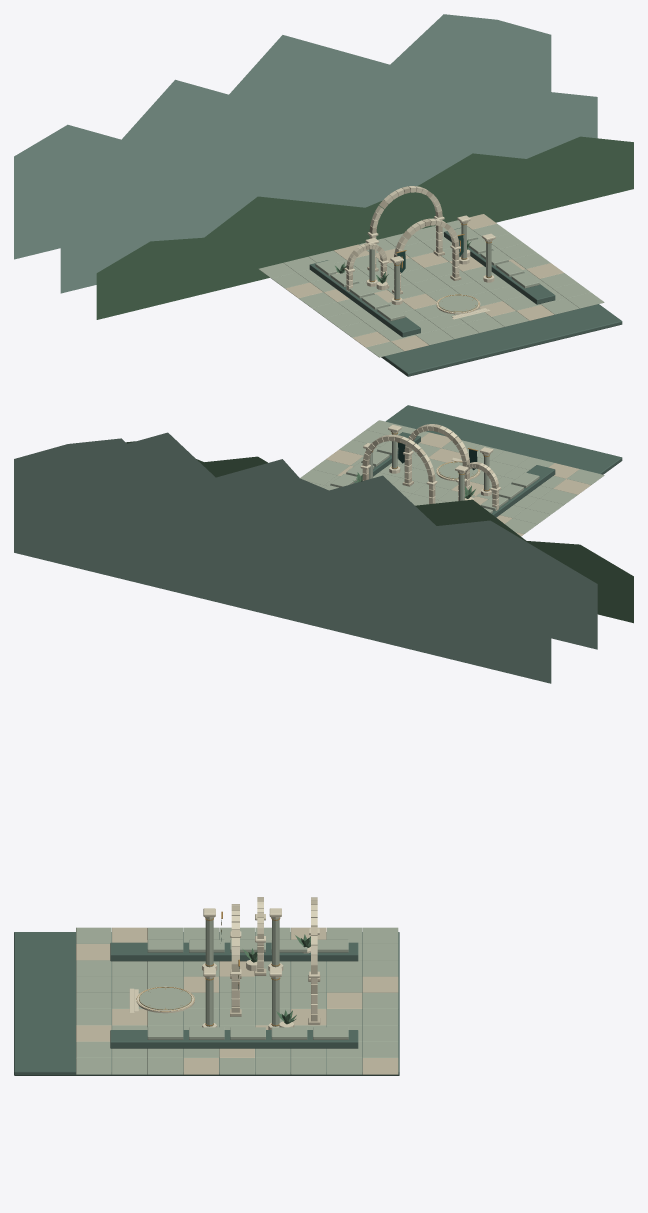
File: oathhall-v1.glb
The picture shows the model from 3 angles, top to bottom: view 1: azimuth 30°, elevation 25°; view 2: azimuth 150°, elevation 25°; view 3: azimuth 270°, elevation 25°; orthographic projection. The views are drawn at different scales.
Parts seen in each view (by area): view 1: TLL_HallV1_7, TLL_HallV1_6, TLL_HallV1_0, TLL_HallV1_4, TLL_HallV1_5, TLL_HallV1_1; view 2: TLL_HallV1_7, TLL_HallV1_0, TLL_HallV1_6, TLL_HallV1_4, TLL_HallV1_5, TLL_HallV1_1; view 3: TLL_HallV1_0, TLL_HallV1_4, TLL_HallV1_5, TLL_HallV1_1.
Boxes of the visible parts, x1=… form: TLL_HallV1_7: x1=14, y1=14, x2=597, y2=293; TLL_HallV1_6: x1=96, y1=136, x2=633, y2=319; TLL_HallV1_0: x1=258, y1=220, x2=604, y2=357; TLL_HallV1_4: x1=309, y1=227, x2=622, y2=376; TLL_HallV1_5: x1=285, y1=186, x2=563, y2=351; TLL_HallV1_1: x1=336, y1=186, x2=495, y2=319; TLL_HallV1_7: x1=14, y1=432, x2=597, y2=683; TLL_HallV1_0: x1=300, y1=420, x2=604, y2=533; TLL_HallV1_6: x1=126, y1=441, x2=633, y2=623; TLL_HallV1_4: x1=330, y1=405, x2=622, y2=517; TLL_HallV1_5: x1=326, y1=424, x2=590, y2=536; TLL_HallV1_1: x1=360, y1=424, x2=500, y2=510; TLL_HallV1_0: x1=76, y1=918, x2=398, y2=1074; TLL_HallV1_4: x1=14, y1=932, x2=399, y2=1075; TLL_HallV1_5: x1=76, y1=899, x2=398, y2=1074; TLL_HallV1_1: x1=129, y1=897, x2=319, y2=1029.
Size of the model in its own units: 60 by 17 by 45.
